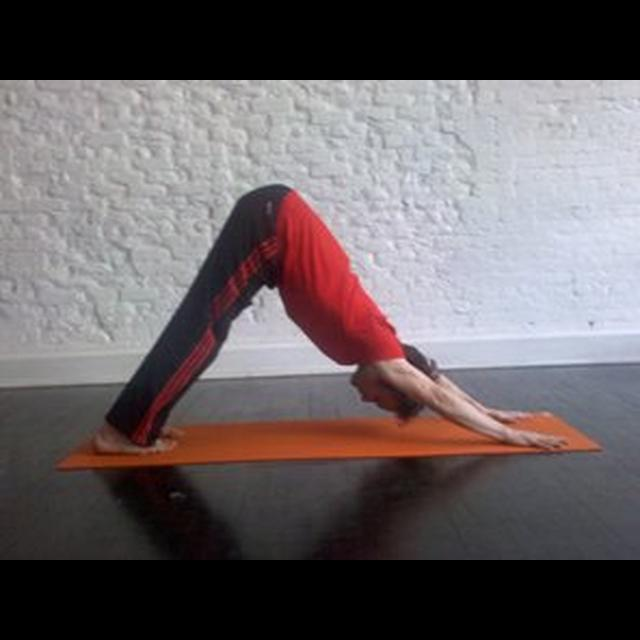Downward-Facing_Dog: (85, 177, 578, 459)
